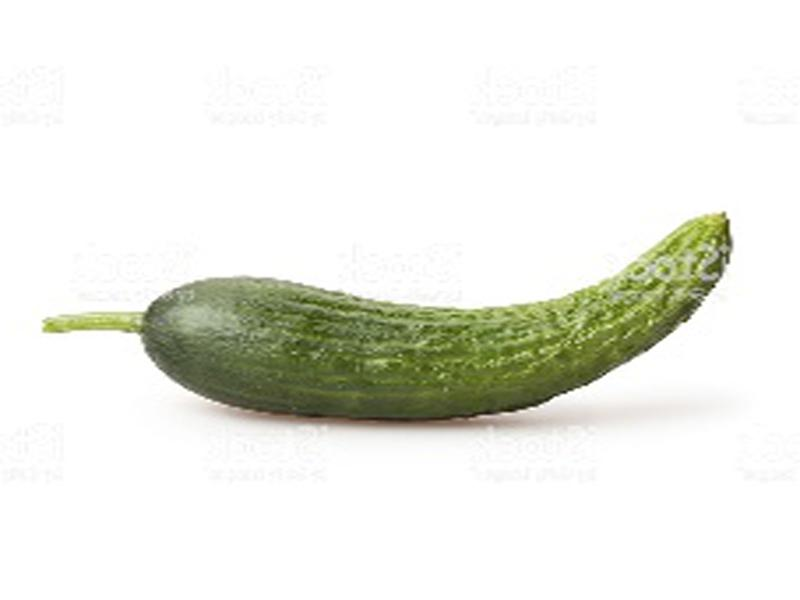Cucumber: (41, 214, 732, 420)
